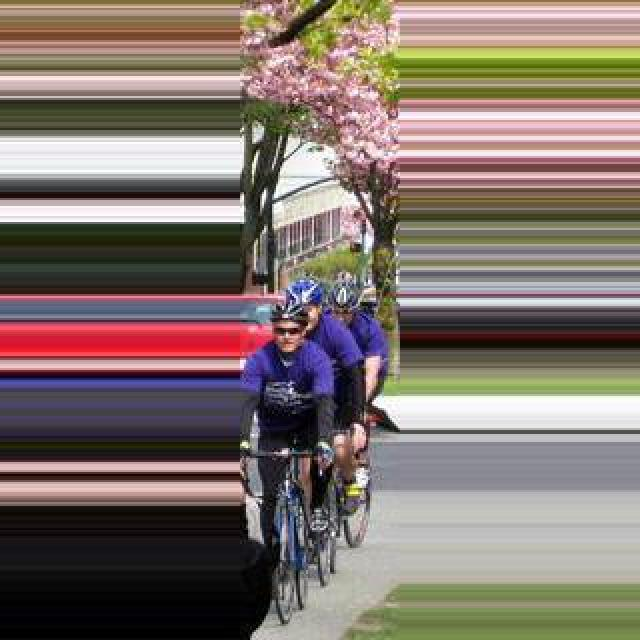MC-Bike: (238, 298, 338, 562), (328, 278, 392, 430)
Person: (264, 440, 334, 622)
